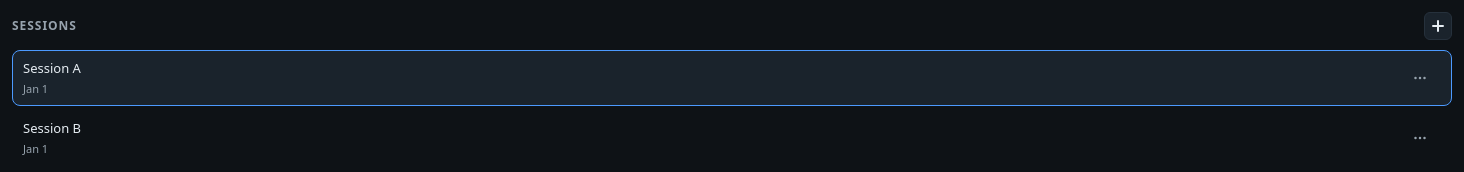
it: session action reveal › keeps both rename and delete reachable with accessible names
Hover over the 1st element with class "session-actions" at (1420, 78), box [1394, 64, 1446, 92]
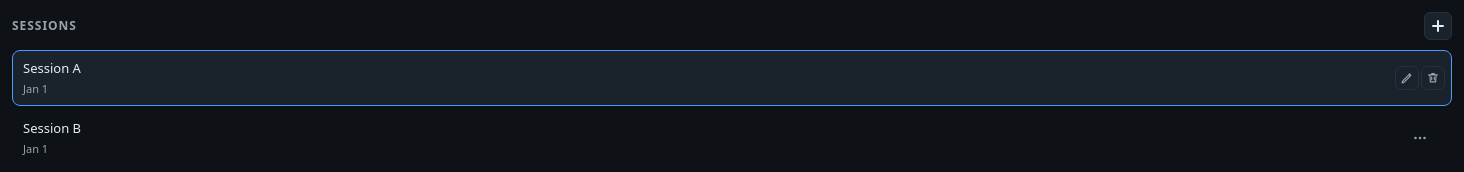
expect the button named "Rename session" is shown: met, box [1395, 66, 1419, 90]
expect the button named "Delete session" is shown: met, box [1421, 66, 1445, 90]
